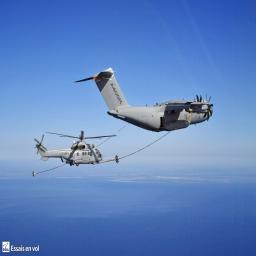helicopter: (32, 129, 122, 170)
